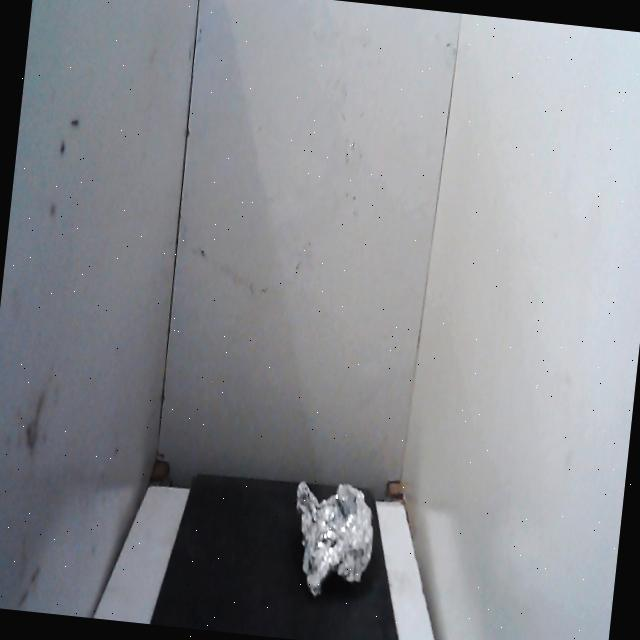metal: (278, 464, 388, 614)
